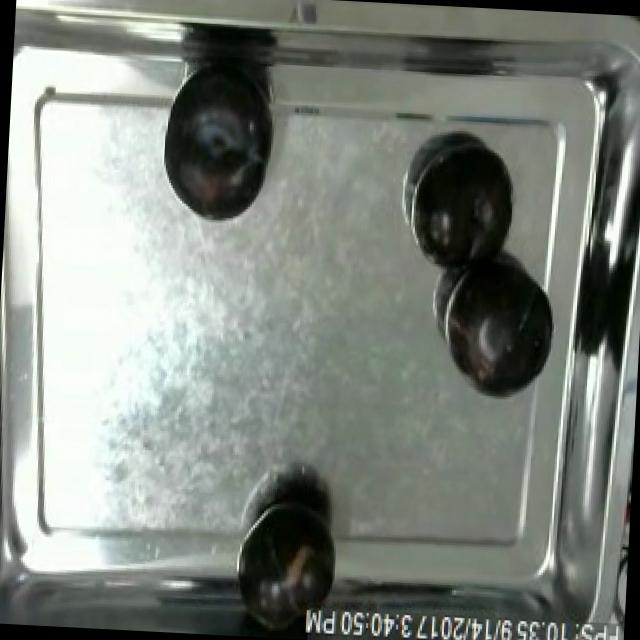Fruit: (154, 61, 284, 233), (438, 255, 562, 404), (229, 485, 333, 640), (408, 142, 518, 280)
